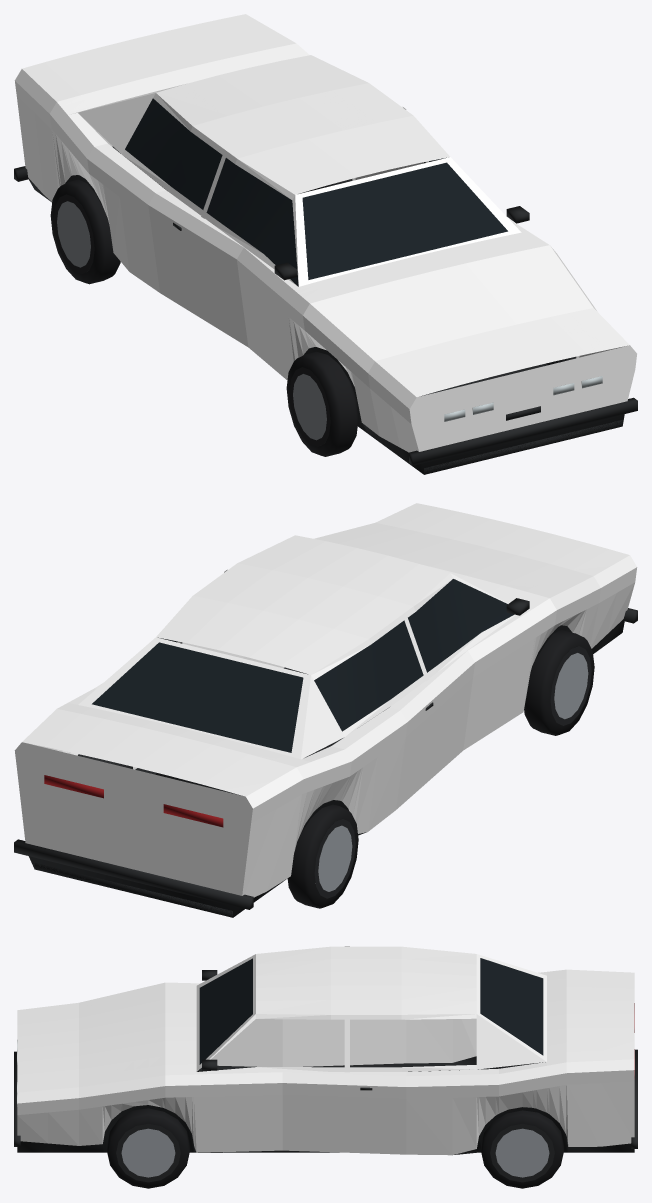
The model's file is whitlock_horizonte.glb.
The picture shows the model from 3 angles, top to bottom: view 1: azimuth 30°, elevation 25°; view 2: azimuth 150°, elevation 25°; view 3: azimuth 270°, elevation 25°; orthographic projection. The views are drawn at different scales.
Parts seen in each view (by area): view 1: Body_Paint, Body_Details, Mount_FrontLeft_Wheel_Details, Mount_RearLeft_Wheel_Details; view 2: Body_Paint, Body_Details, Mount_FrontLeft_Wheel_Details, Mount_RearLeft_Wheel_Details; view 3: Body_Paint, Body_Details, Mount_FrontRight_Wheel_Details, Mount_RearRight_Wheel_Details.
Part boxes in pixels (<box>): Body_Paint: <box>14,14,636,452</box>; Body_Details: <box>14,98,637,474</box>; Mount_FrontLeft_Wheel_Details: <box>286,351,358,456</box>; Mount_RearLeft_Wheel_Details: <box>50,179,120,284</box>; Body_Paint: <box>14,503,637,897</box>; Body_Details: <box>14,579,637,917</box>; Mount_FrontLeft_Wheel_Details: <box>524,630,594,735</box>; Mount_RearLeft_Wheel_Details: <box>287,804,358,908</box>; Body_Paint: <box>17,946,634,1155</box>; Body_Details: <box>14,958,637,1154</box>; Mount_FrontRight_Wheel_Details: <box>107,1108,189,1188</box>; Mount_RearRight_Wheel_Details: <box>481,1110,563,1188</box>.
Bounding box in the file's own units: 2.04 × 1.5 × 5.26.
2 materials, 1 textured.
